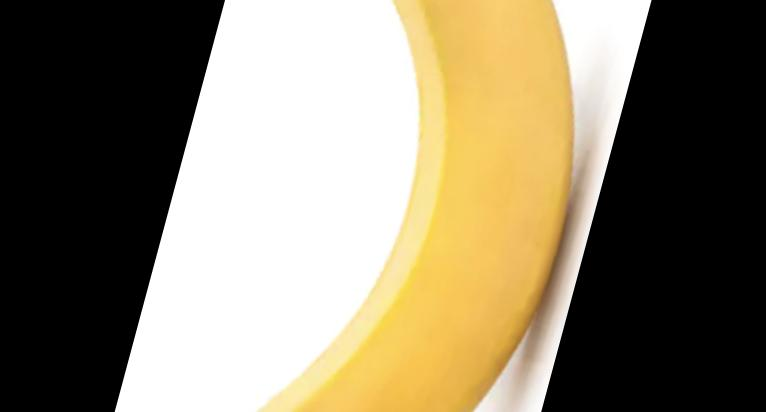Banana Ripe: (223, 0, 609, 412)
